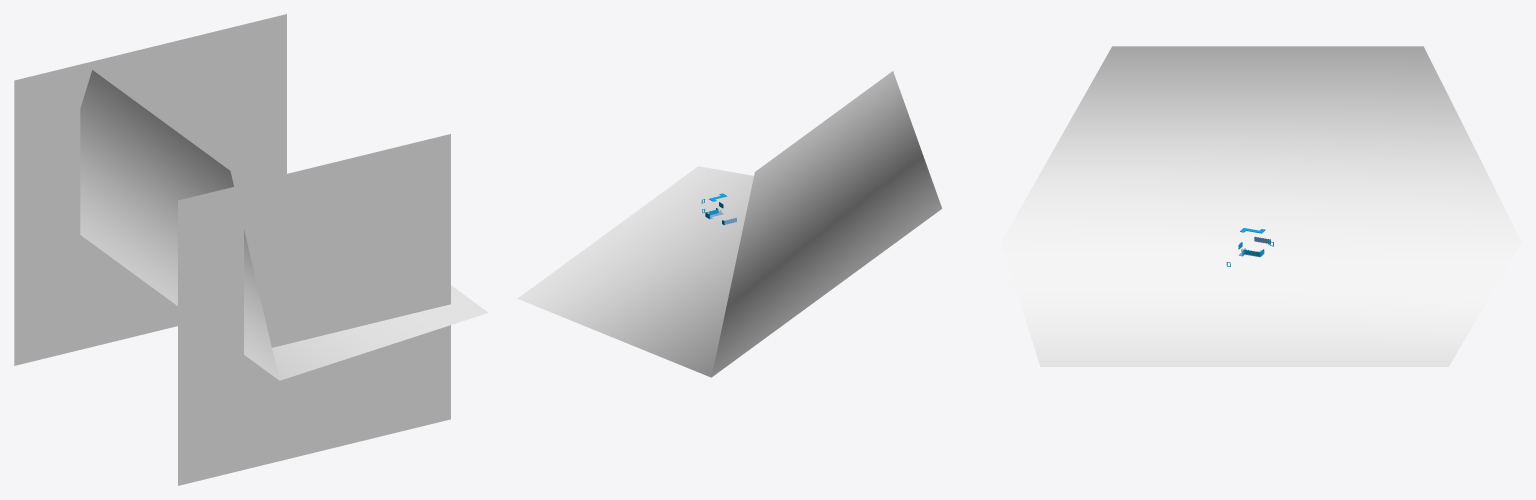
File: model-1764784763555-periskop1.glb
3 renders of one model, left to right at view 1: azimuth 30°, elevation 25°; view 2: azimuth 150°, elevation 25°; view 3: azimuth 270°, elevation 25°, orthographic. The views are drawn at different scales.
Parts seen in each view (by area): view 1: Plane.002, Plane.001, Plane; view 2: Plane; view 3: Plane.
Part boxes in pixels (x1,y1,x2,y2): Plane.002: [178, 134, 450, 485]; Plane.001: [14, 14, 286, 365]; Plane: [80, 70, 488, 380]; Plane: [517, 71, 941, 377]; Plane: [1001, 46, 1521, 366].
Size of the model in its own units: 55.46 by 52.36 by 75.81.
Materials: 2 (2 with a texture image).
